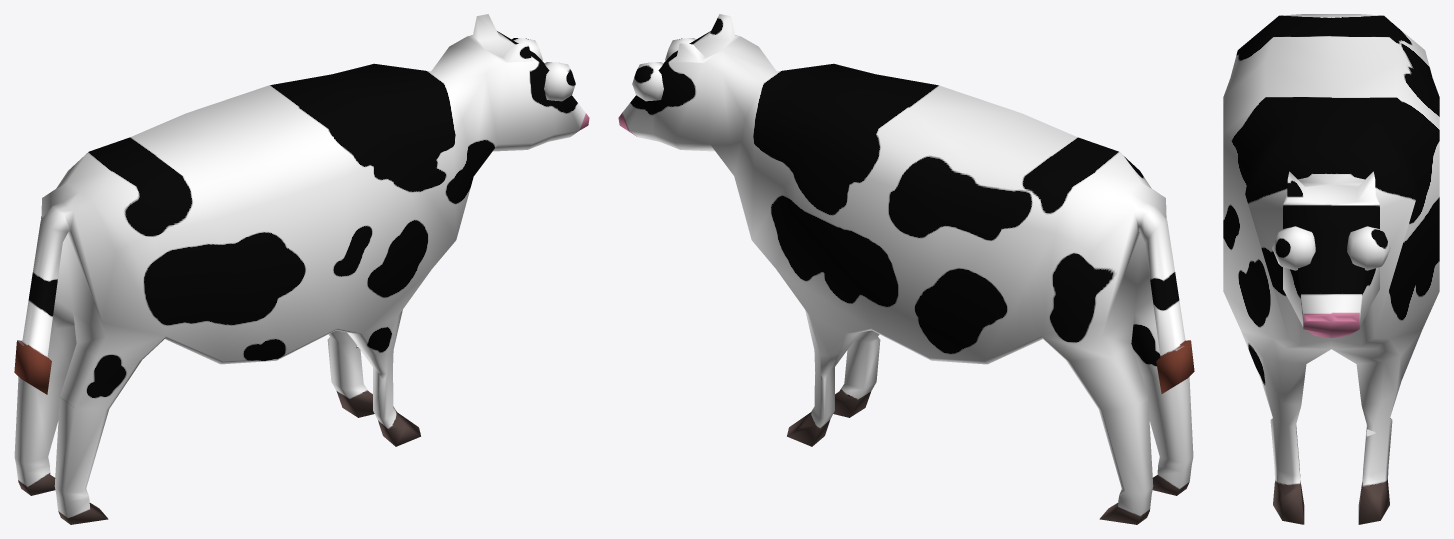
The model's file is Projectile_Cow.fbx.
The picture shows the model from 3 angles, left to right: view 1: azimuth 30°, elevation 25°; view 2: azimuth 150°, elevation 25°; view 3: azimuth 270°, elevation 25°; orthographic projection. The views are drawn at different scales.
Visible parts, largest first — view 1: Cow; view 2: Cow; view 3: Cow.
Part boxes in pixels (x1=…): Cow: x1=14, y1=14, x2=589, y2=524; Cow: x1=618, y1=14, x2=1194, y2=524; Cow: x1=1223, y1=14, x2=1439, y2=524.
Size of the model in its own units: 204 by 129 by 62.78.
